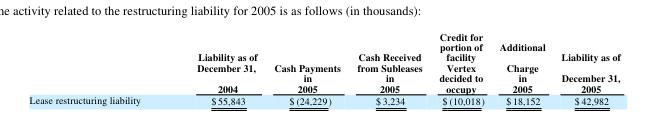table: (28, 29, 619, 107)
table column: (28, 29, 168, 107), (168, 29, 265, 107), (265, 29, 348, 107), (348, 29, 430, 107), (552, 29, 619, 107), (430, 29, 491, 107), (491, 29, 552, 107)
table column header: (28, 29, 619, 93)
table row: (28, 29, 619, 93), (28, 93, 619, 107)
